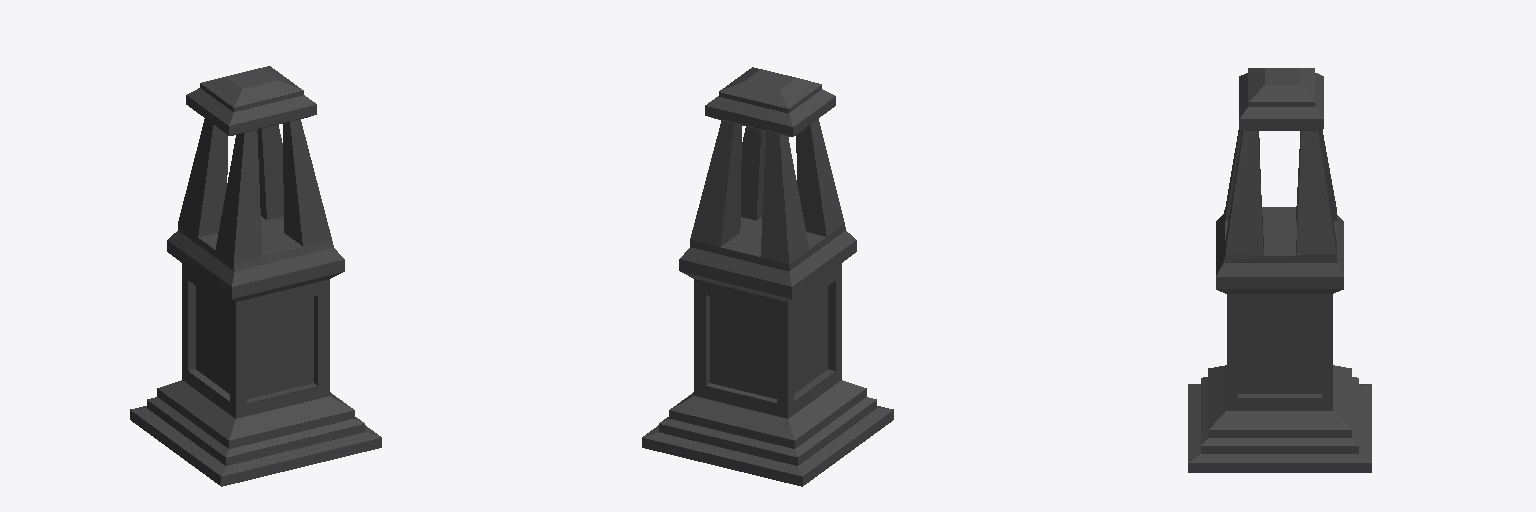
Rendered from pilar.obj.
The picture shows the model from 3 angles: view 1: azimuth 30°, elevation 25°; view 2: azimuth 150°, elevation 25°; view 3: azimuth 270°, elevation 25°; orthographic projection.
Parts seen in each view (by area): view 1: g pilar_low_pilar_low; view 2: g pilar_low_pilar_low; view 3: g pilar_low_pilar_low.
Part boxes in pixels (left/top/right/bottom): g pilar_low_pilar_low: left=130, top=66, right=381, bottom=486; g pilar_low_pilar_low: left=642, top=67, right=893, bottom=486; g pilar_low_pilar_low: left=1188, top=68, right=1371, bottom=472.
Bounding box in the file's own units: 9.23 × 19.53 × 9.12.